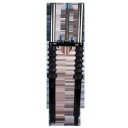Fork: (43, 2, 116, 128)
